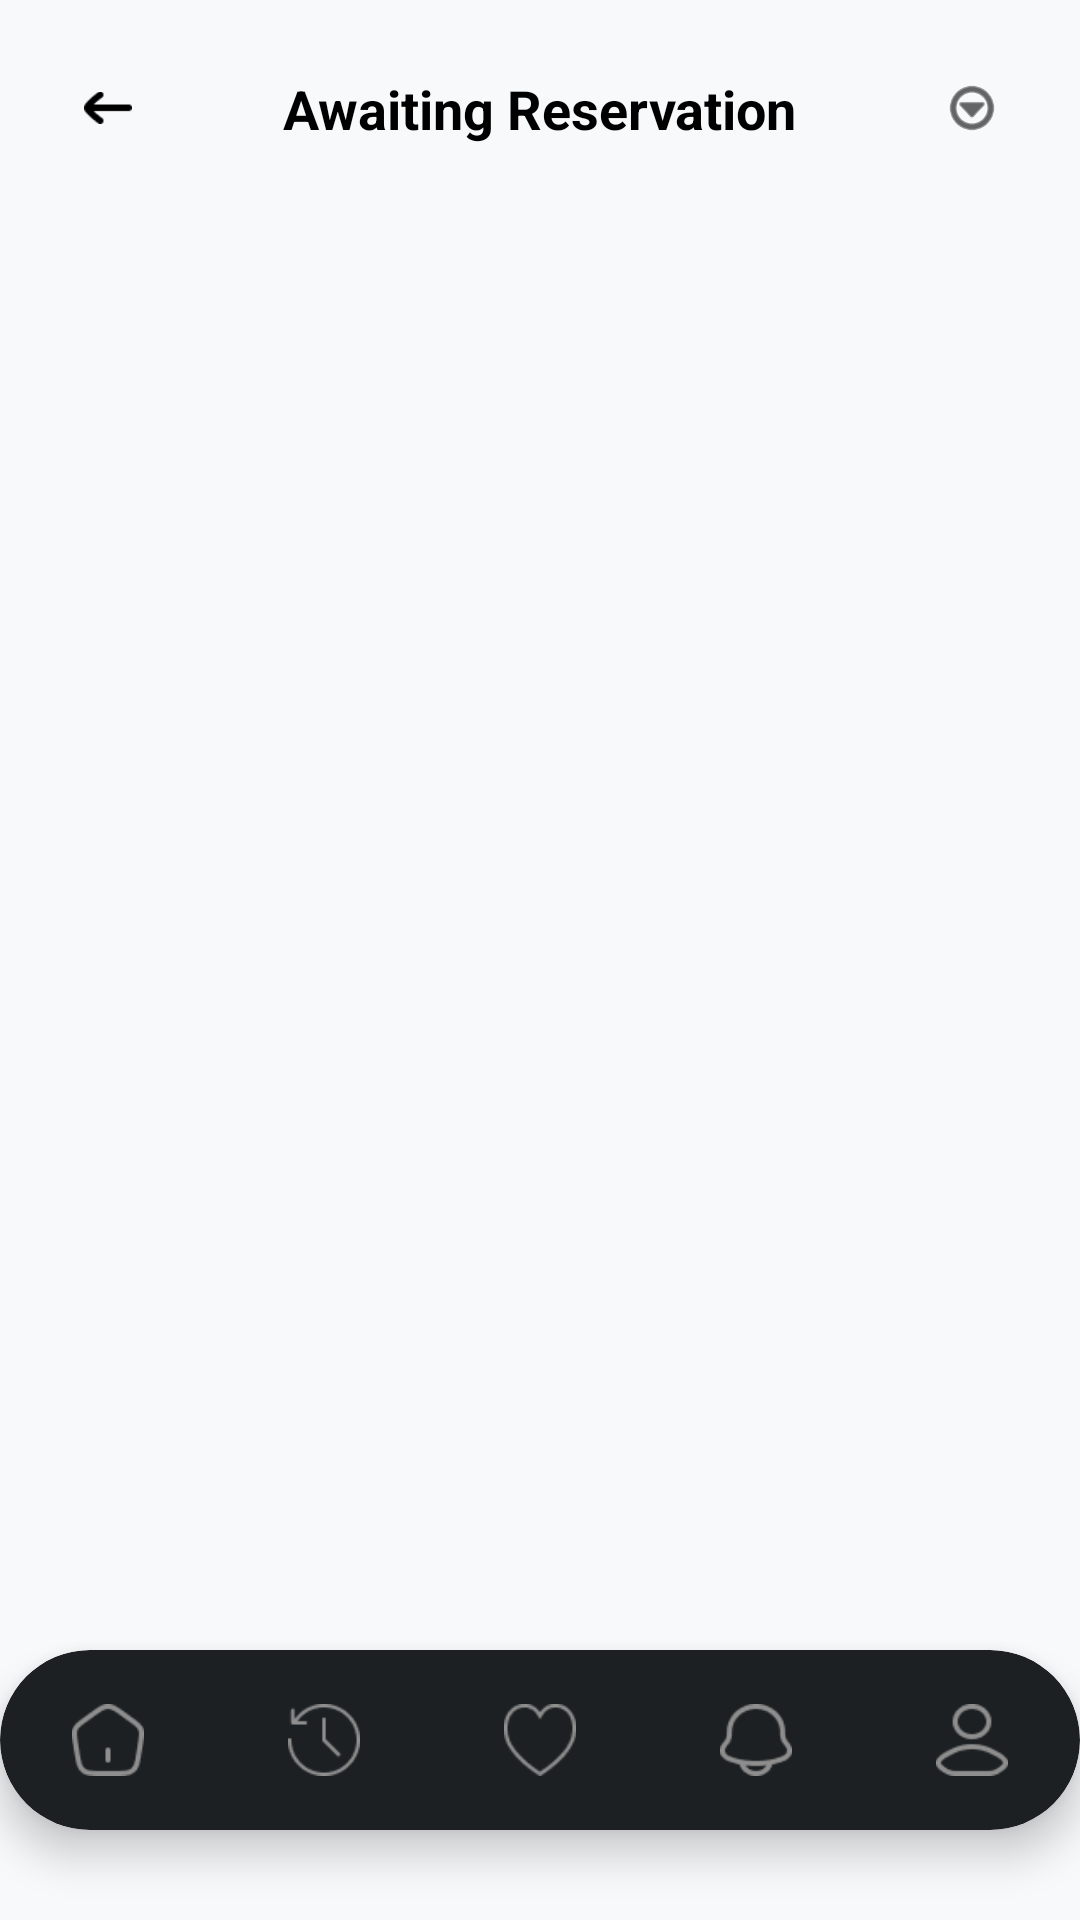

Where icons sit on this 1080px×1920px app screen, as (x1, y1, x2, y2):
favourite heart: (504, 1704, 576, 1776)
history: (288, 1704, 360, 1776)
homepage: (72, 1704, 144, 1776)
notification: (720, 1704, 792, 1776)
profile settings: (936, 1704, 1008, 1776)
